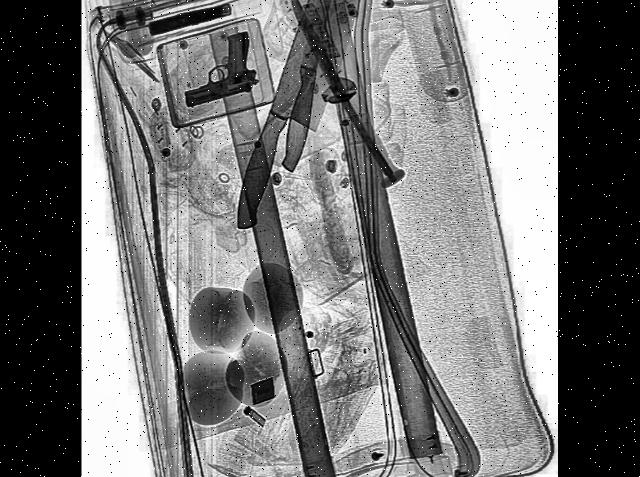Gun: (178, 27, 261, 108), (147, 0, 233, 38)
Knife: (231, 0, 368, 255), (285, 0, 396, 187), (278, 0, 348, 172)
